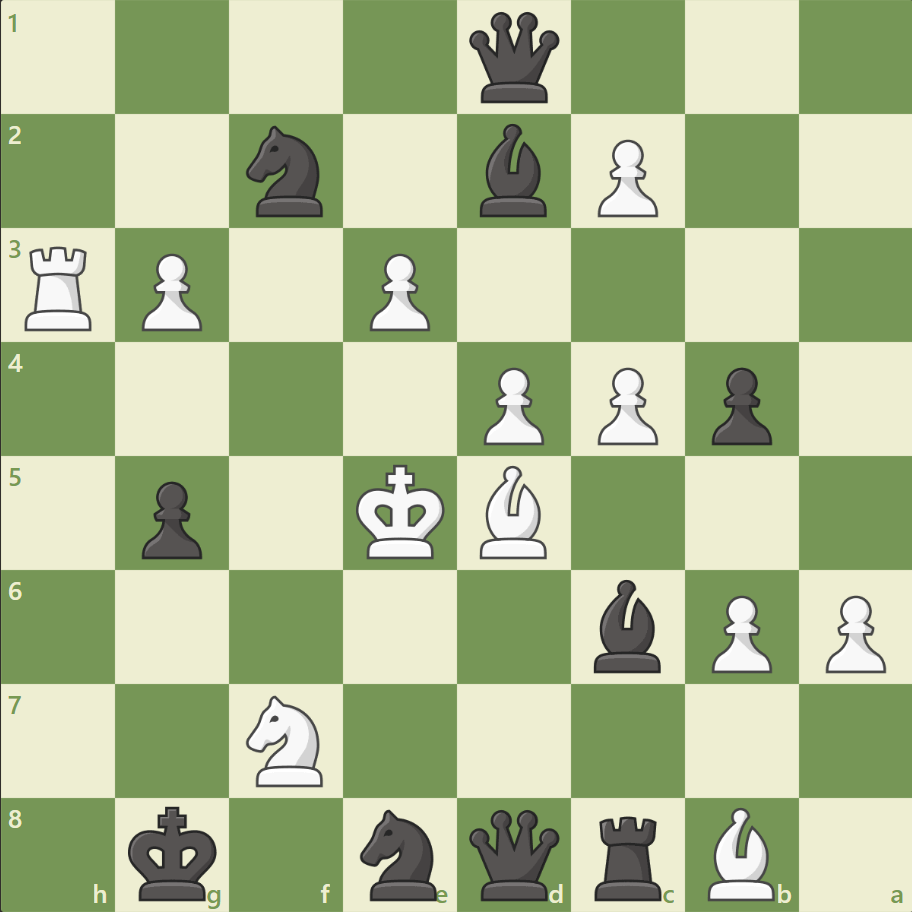B: (698, 801, 782, 904), (471, 460, 555, 563)
K: (351, 458, 451, 566)
N: (238, 688, 335, 791)
P: (701, 586, 776, 677), (474, 359, 549, 450), (133, 246, 208, 337), (815, 586, 889, 677), (588, 359, 662, 450), (361, 246, 435, 337), (588, 132, 662, 223)
R: (19, 239, 102, 336)
b: (585, 574, 669, 676), (471, 120, 555, 222)
k: (124, 798, 224, 906)
n: (351, 802, 449, 904), (238, 121, 335, 223)
p: (133, 473, 208, 564), (701, 359, 776, 450)
q: (464, 804, 563, 903), (464, 9, 563, 108)
r: (587, 806, 670, 904)
